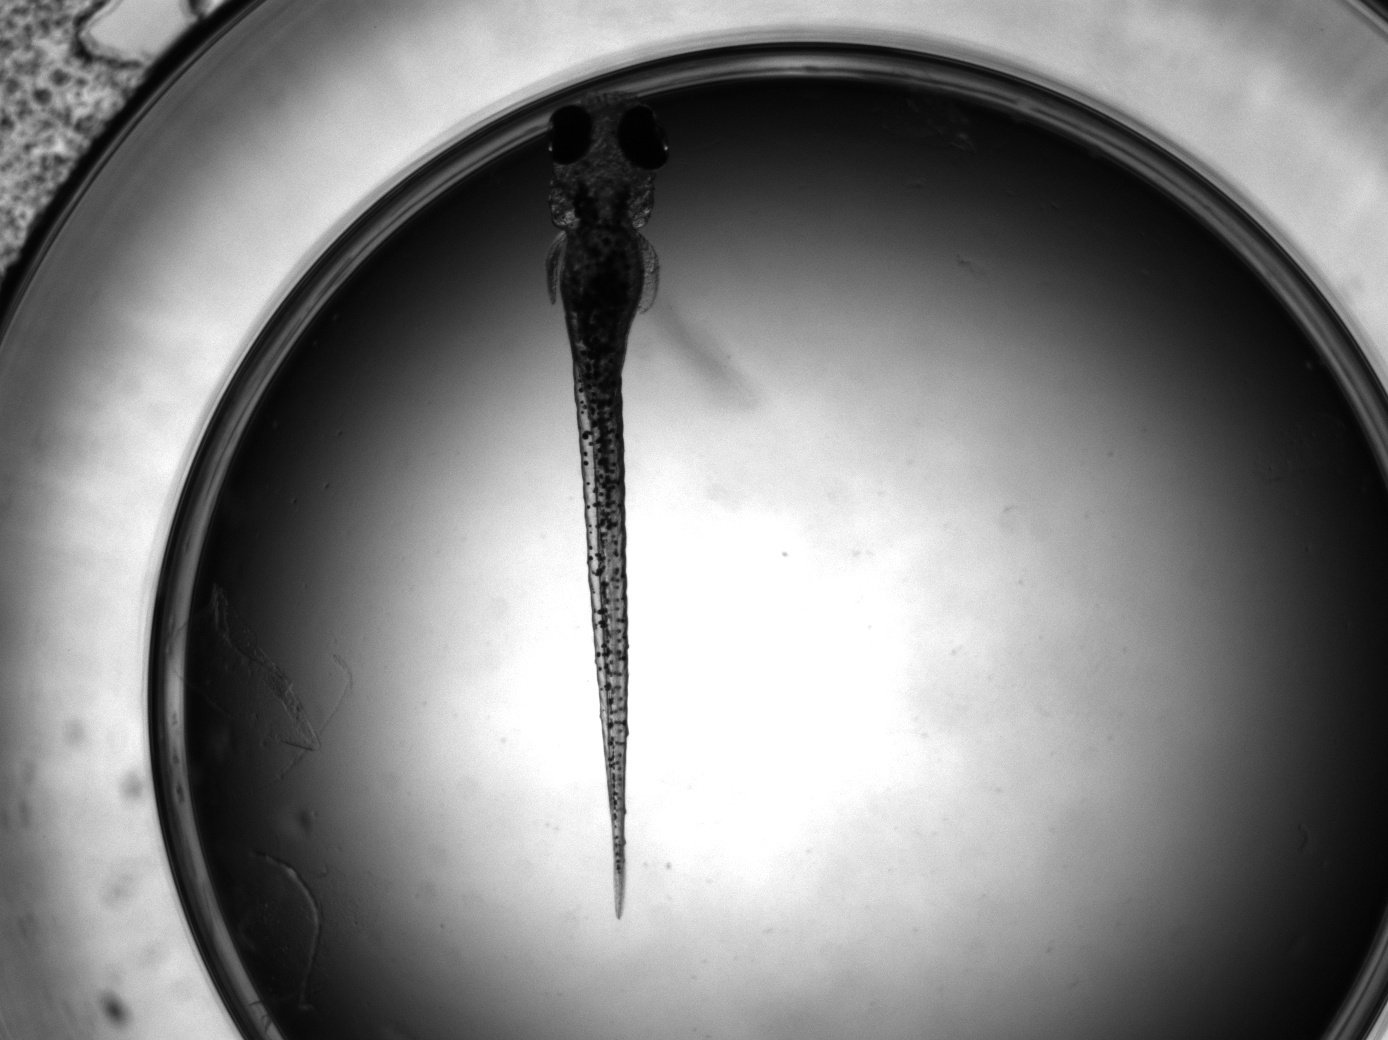embryo: (542, 91, 672, 922)
eye: (617, 103, 672, 172), (546, 105, 593, 164)
yolksac: (560, 225, 645, 361)
